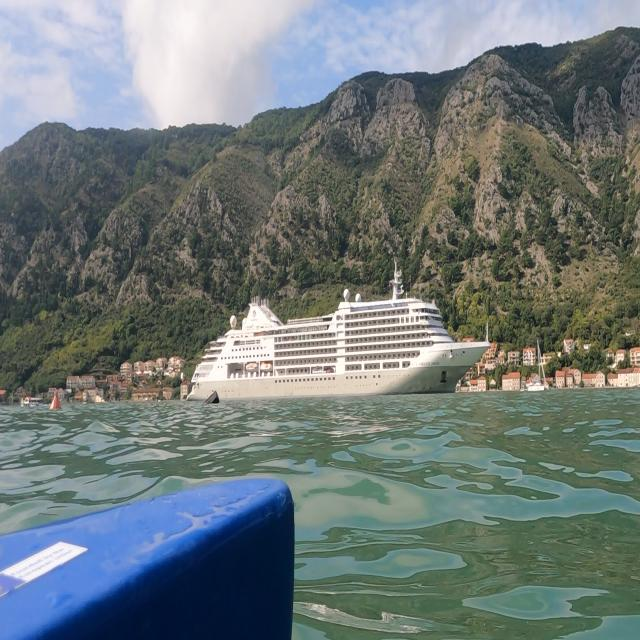boat: (183, 254, 492, 405)
buoy: (46, 387, 64, 421), (196, 389, 223, 411)
